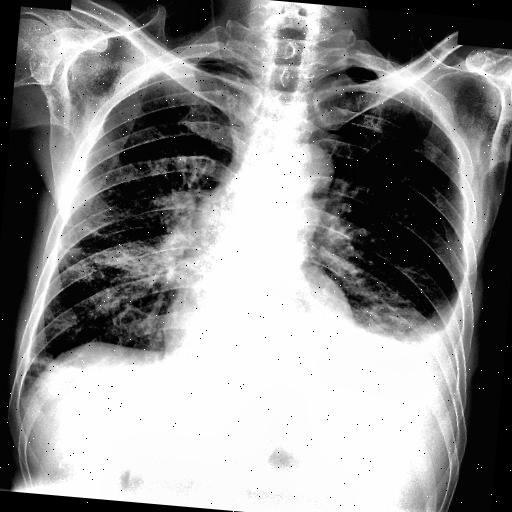0- Aortic enlargement: (268, 134, 340, 212)
10- Pleural effusion: (330, 286, 476, 424), (331, 290, 461, 396), (360, 298, 463, 404)
13- Pulmonary fibrosis: (17, 350, 156, 391), (56, 224, 110, 284), (30, 355, 59, 368)
6- Infiltration: (112, 211, 182, 316), (342, 270, 429, 338), (90, 232, 166, 284)
7- Lung Opacity: (28, 354, 50, 368)
